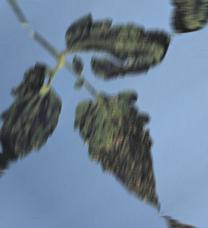Tomato Septoria leaf spot: (57, 66, 207, 224), (51, 0, 179, 107), (0, 51, 94, 173)
